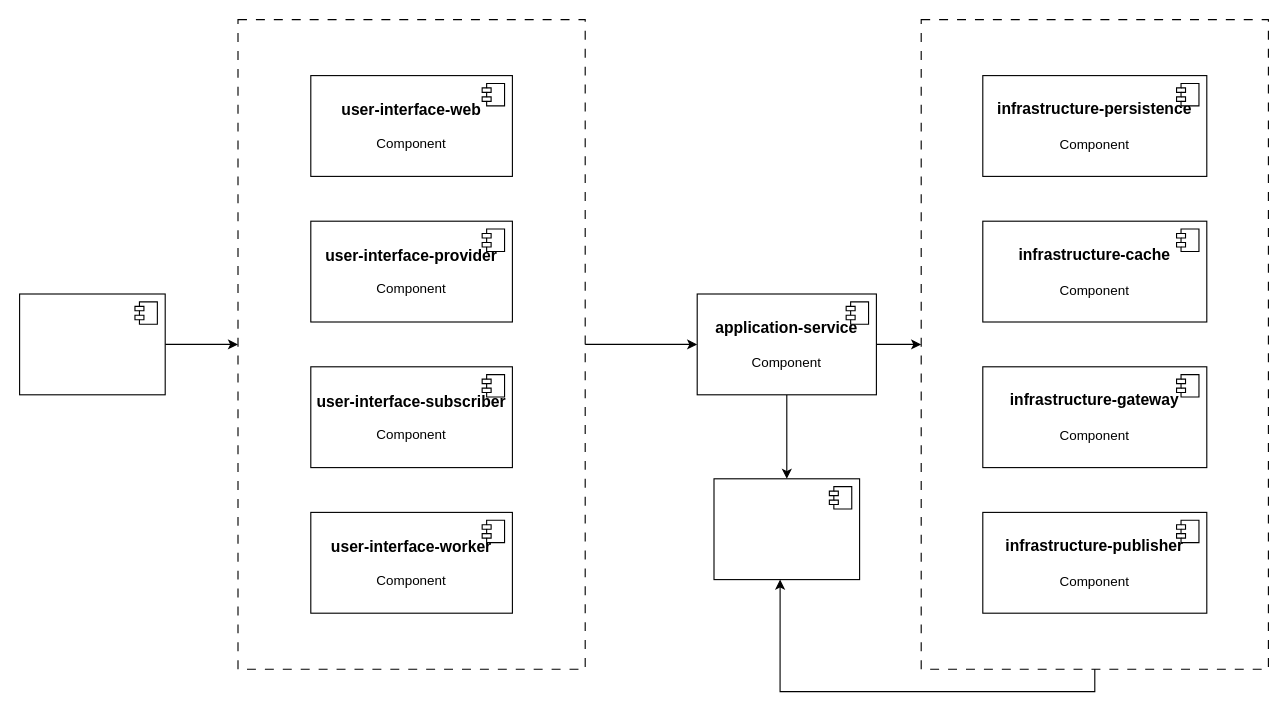
Image size: 1288x720. Some labels were removed from this diagram. The box of each missing label's shape, as (x1, y1, x2, y2) in pixels:
domain Component: (713, 478, 860, 580)
launcher Component: (18, 293, 165, 395)
